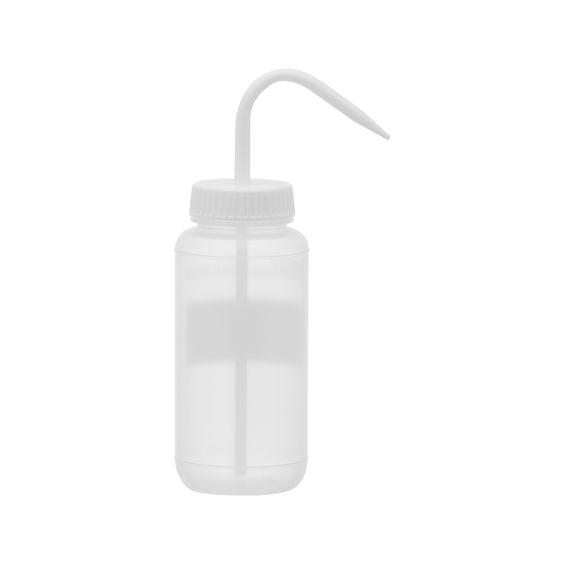LDPE: (125, 0, 429, 564)
